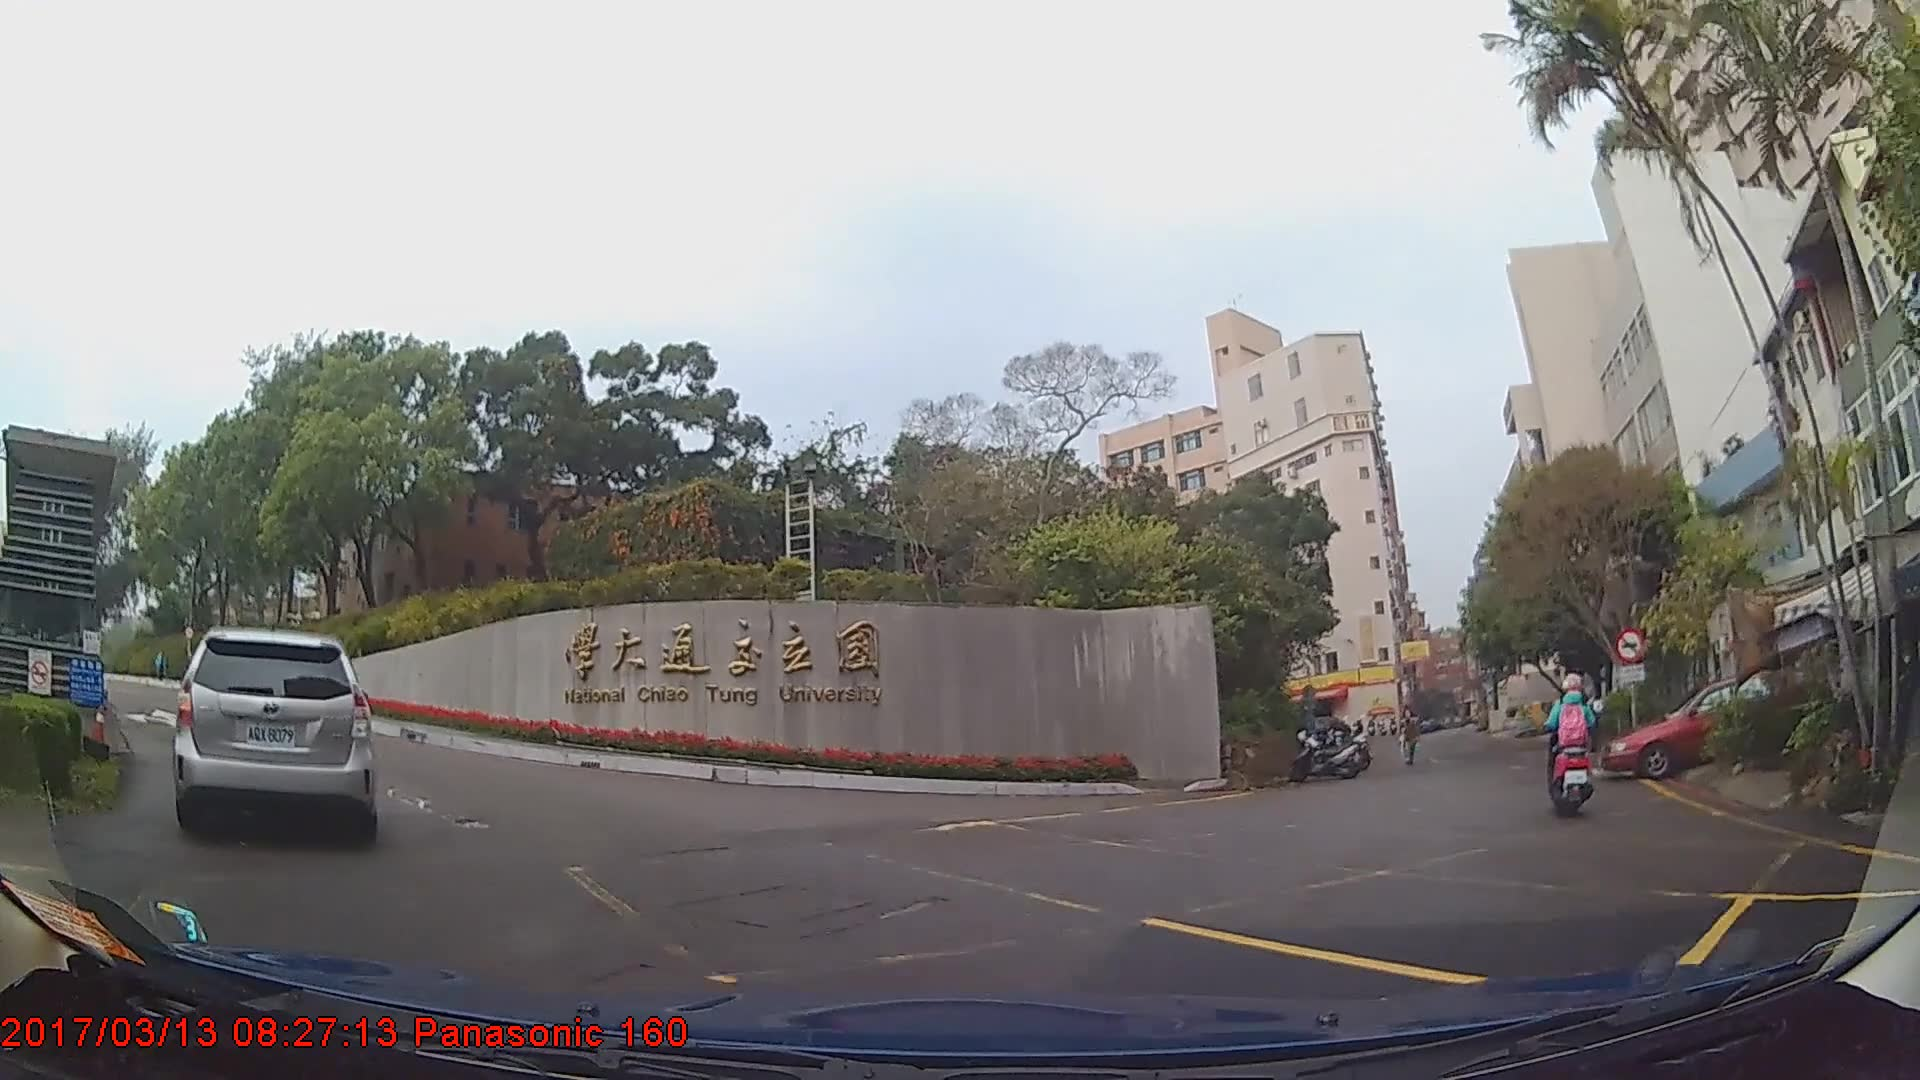pedestrian: (1397, 710, 1422, 769)
rider: (1549, 664, 1598, 815)
vehicle: (173, 625, 377, 846), (1600, 677, 1801, 777)
